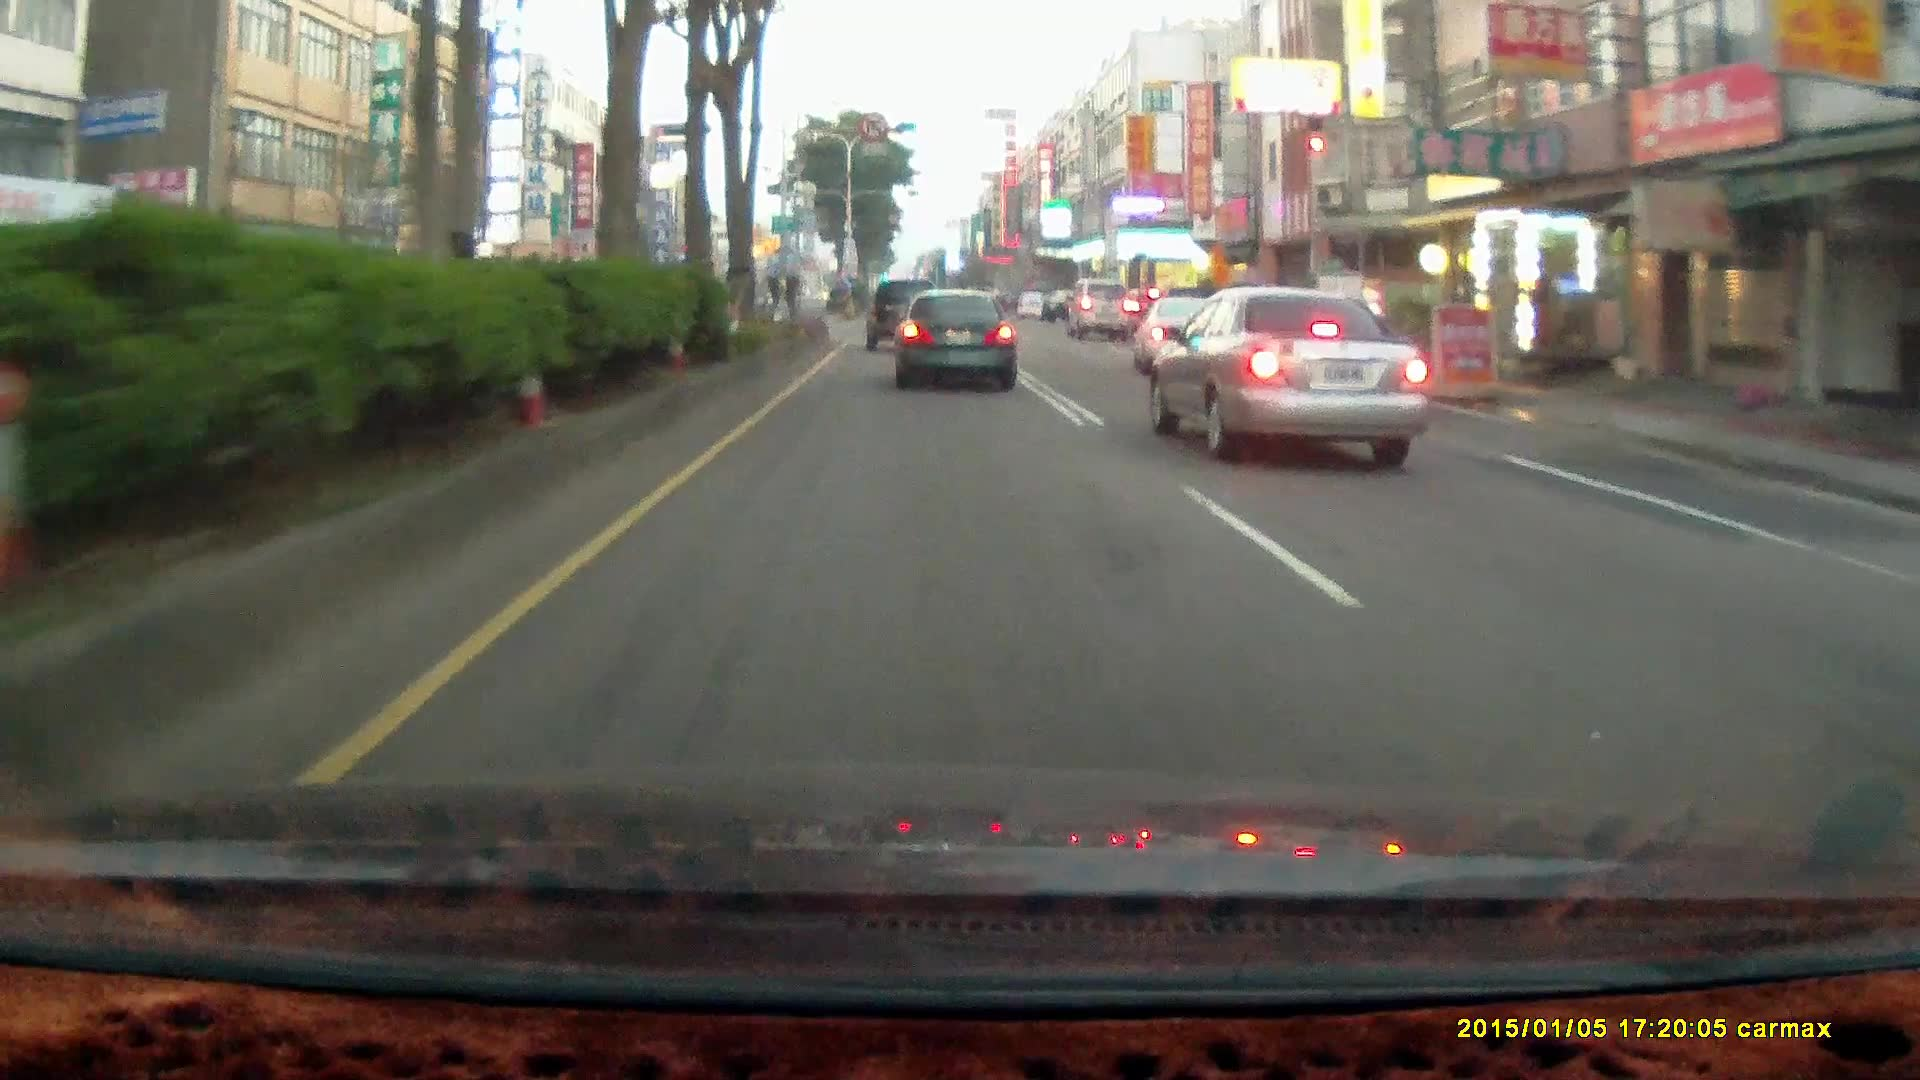vehicle: (1153, 286, 1432, 459), (891, 287, 1021, 397), (893, 287, 1015, 390), (864, 278, 944, 355), (864, 280, 942, 352), (1065, 276, 1134, 339), (1067, 280, 1135, 343), (1042, 287, 1091, 323), (1019, 291, 1043, 316)
